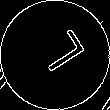L_SW: (25, 28, 85, 82)
